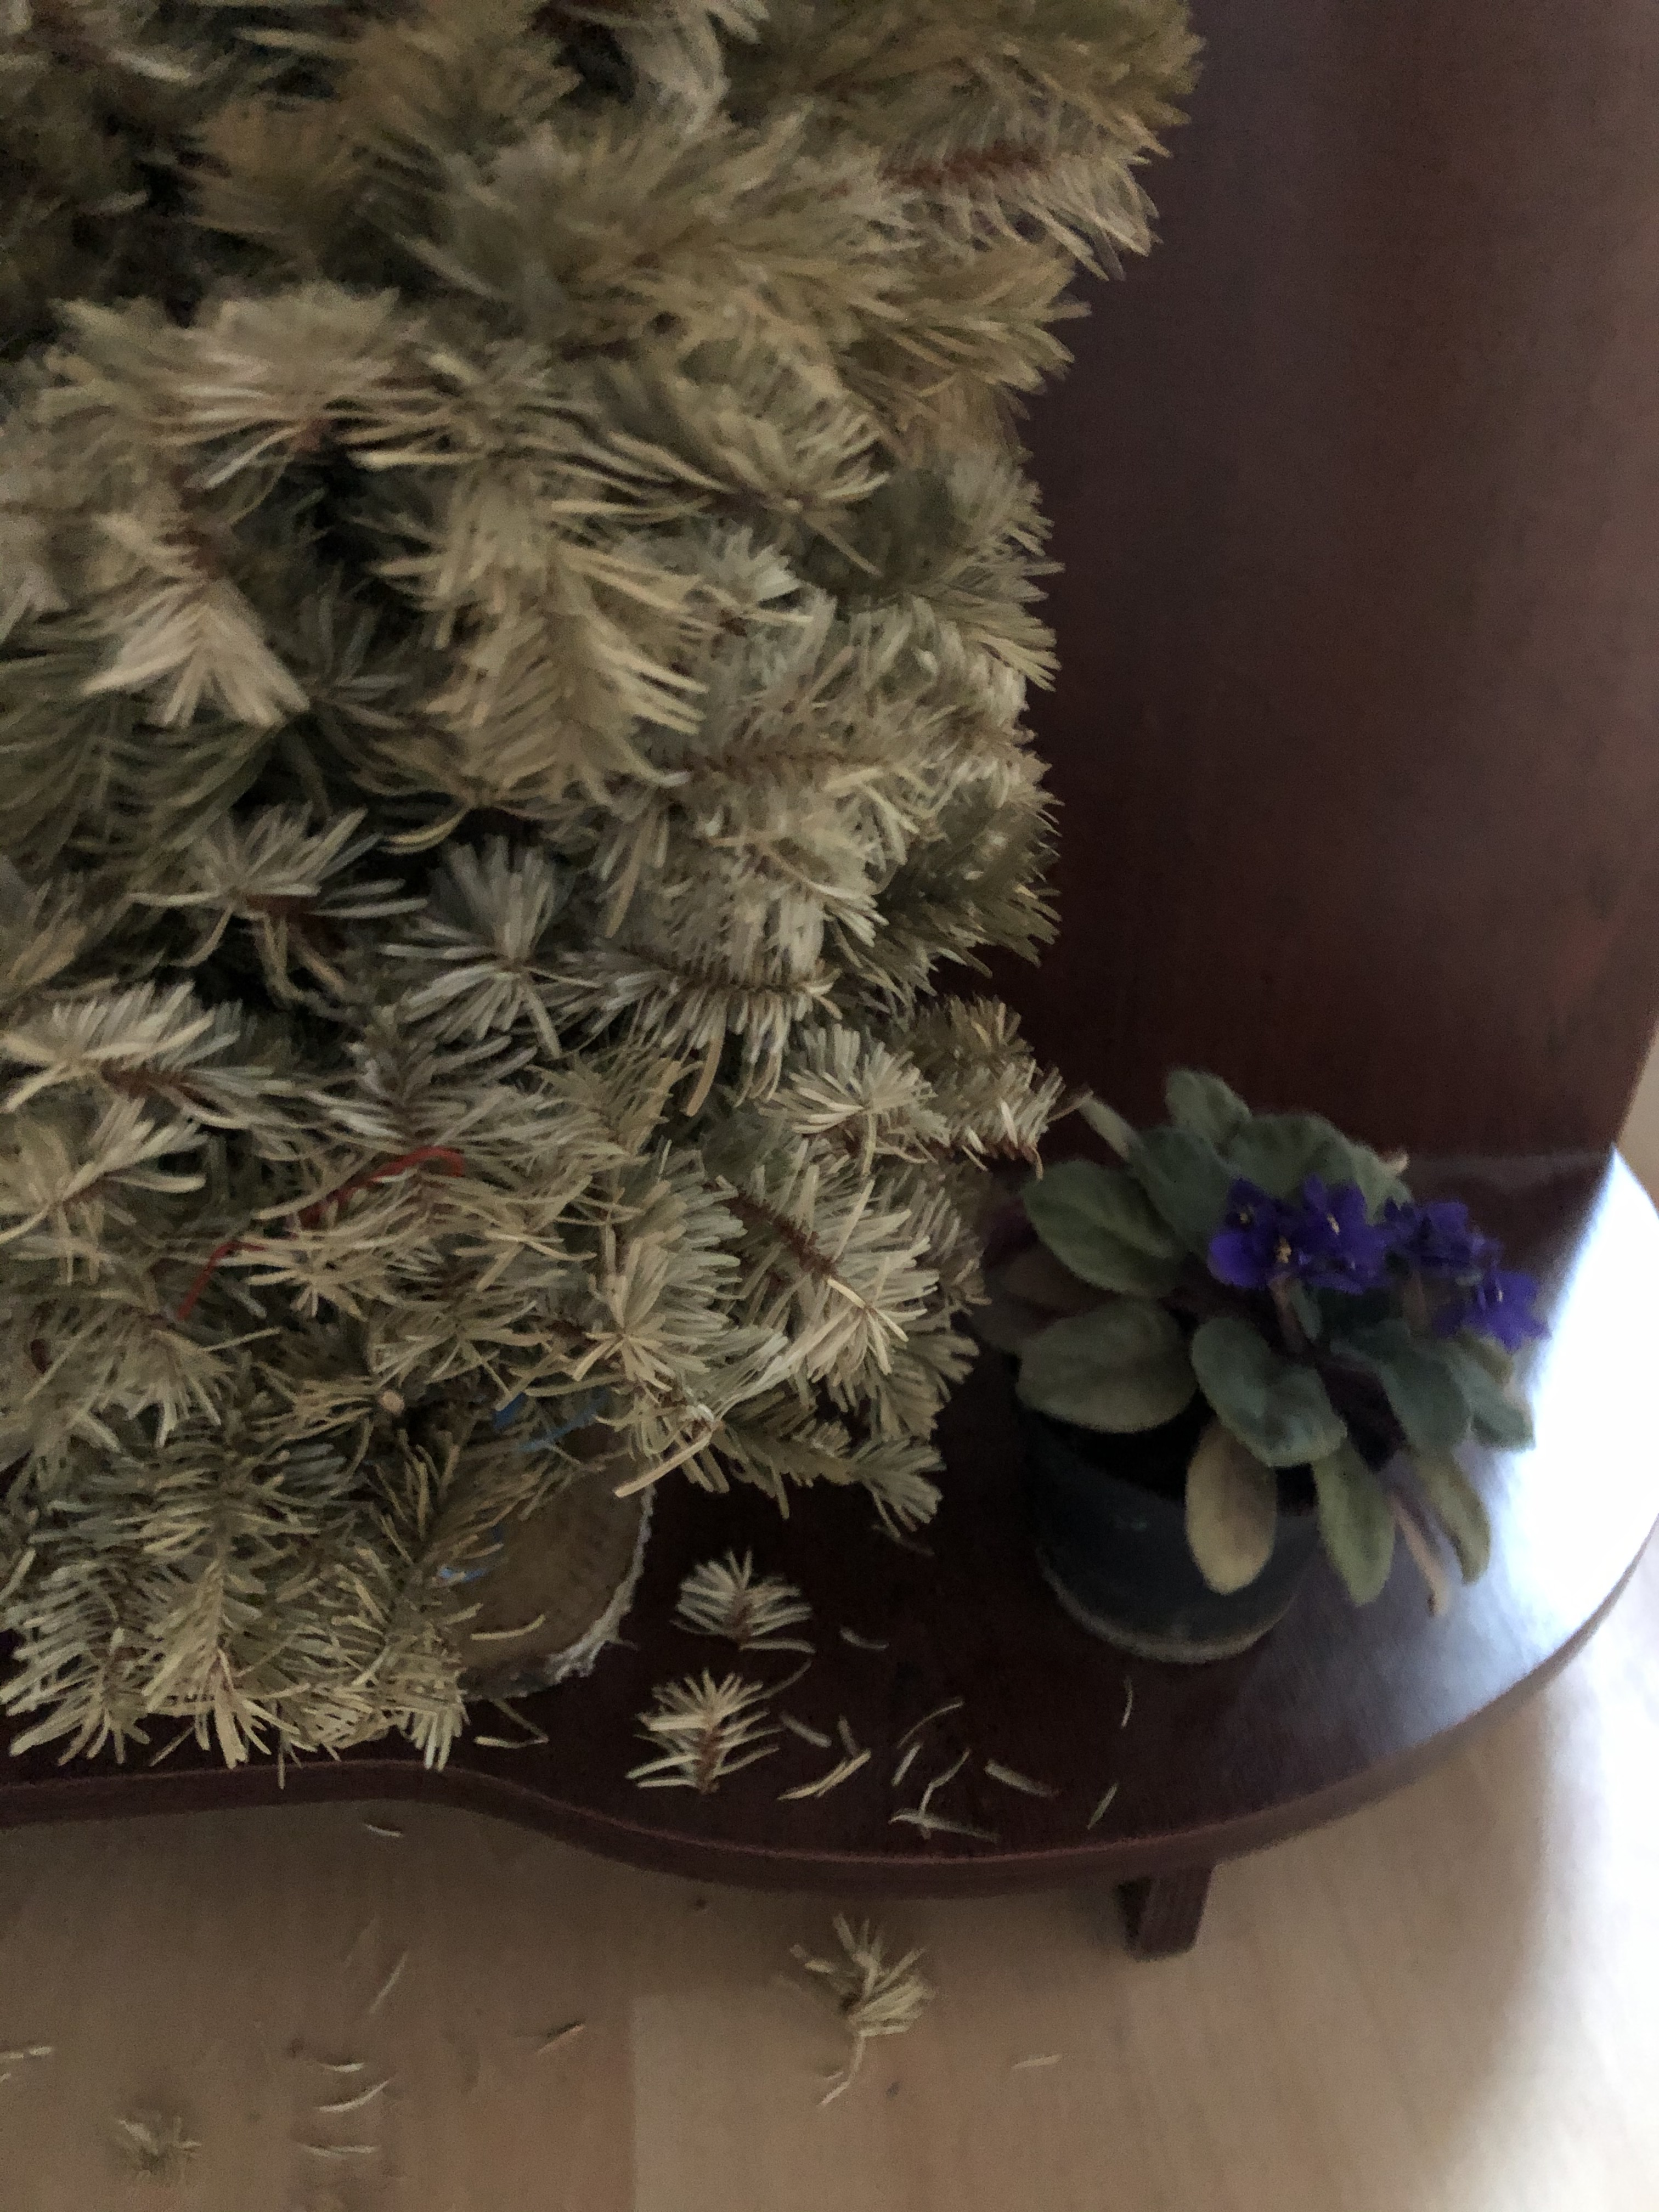ignore: (993, 1052, 1537, 1620)
